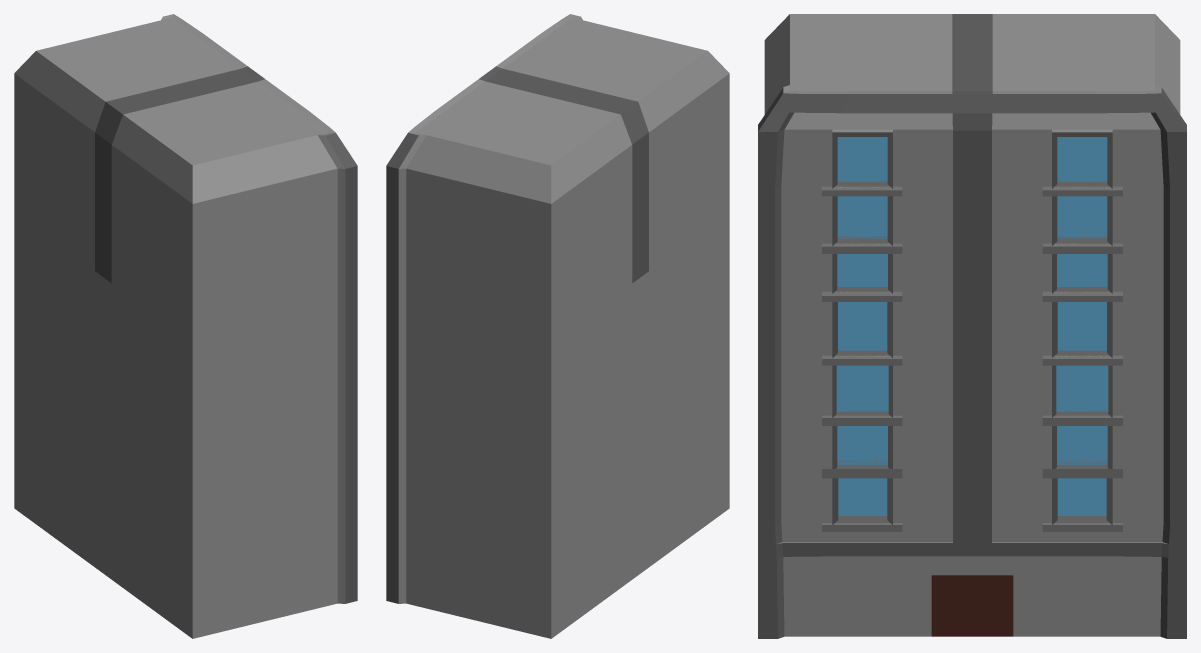
File: building.fbx
The picture shows the model from 3 angles, left to right: view 1: azimuth 30°, elevation 25°; view 2: azimuth 150°, elevation 25°; view 3: azimuth 270°, elevation 25°; orthographic projection. The views are drawn at different scales.
Parts seen in each view (by area): view 1: Cube; view 2: Cube; view 3: Cube.
Boxes of the visible parts, left/top/right/bottom form: Cube: left=14, top=14, right=357, bottom=638; Cube: left=386, top=14, right=729, bottom=638; Cube: left=758, top=14, right=1186, bottom=638.
Size of the model in its own units: 3724 by 9377 by 6744.
